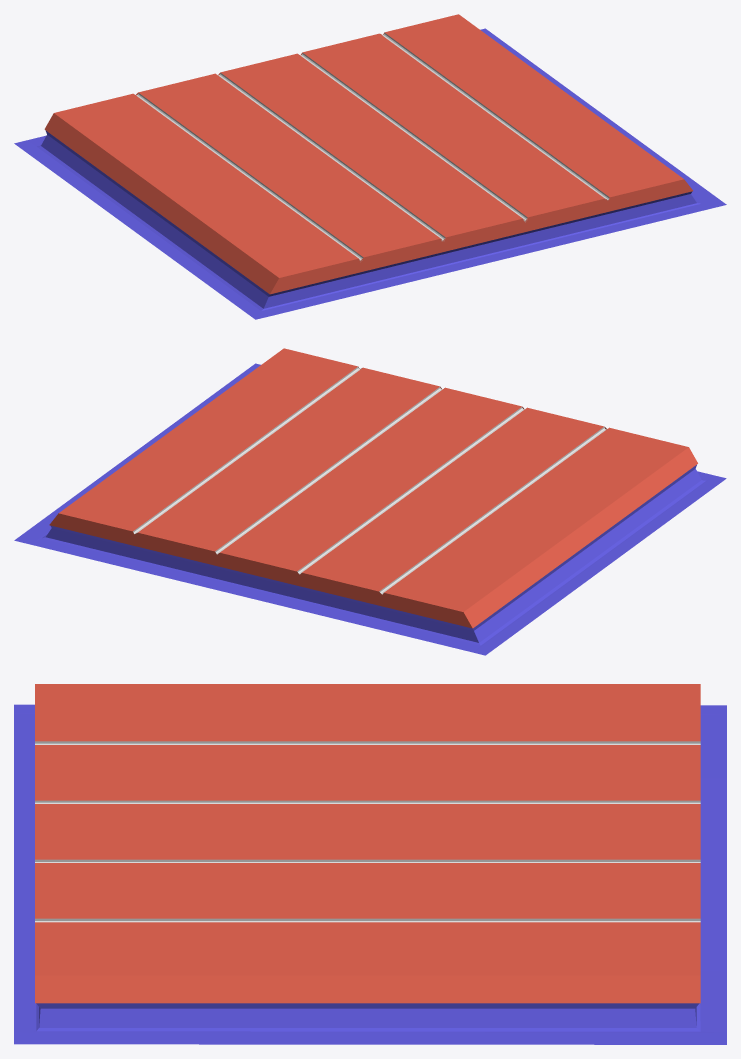
File: L1V2_Corner_Roof_V2.fbx
3 renders of one model, top to bottom at view 1: azimuth 30°, elevation 25°; view 2: azimuth 150°, elevation 25°; view 3: azimuth 270°, elevation 25°, orthographic. The views are drawn at different scales.
Visible parts, largest first — view 1: Plane.009; view 2: Plane.009; view 3: Plane.009.
Part boxes in pixels (box(x1,y1,x2,y2)): Plane.009: box(14, 14, 726, 319); Plane.009: box(14, 348, 726, 655); Plane.009: box(14, 684, 726, 1044).
Bounding box in the file's own units: 1421 × 84.89 × 1261.
